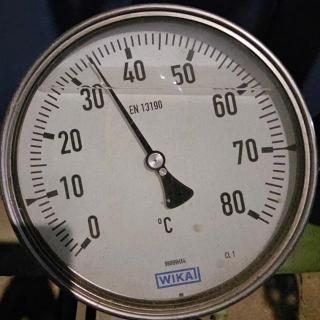gauge: (0, 0, 320, 320), (66, 212, 112, 264), (231, 193, 269, 229), (144, 149, 167, 171), (82, 52, 98, 68)
